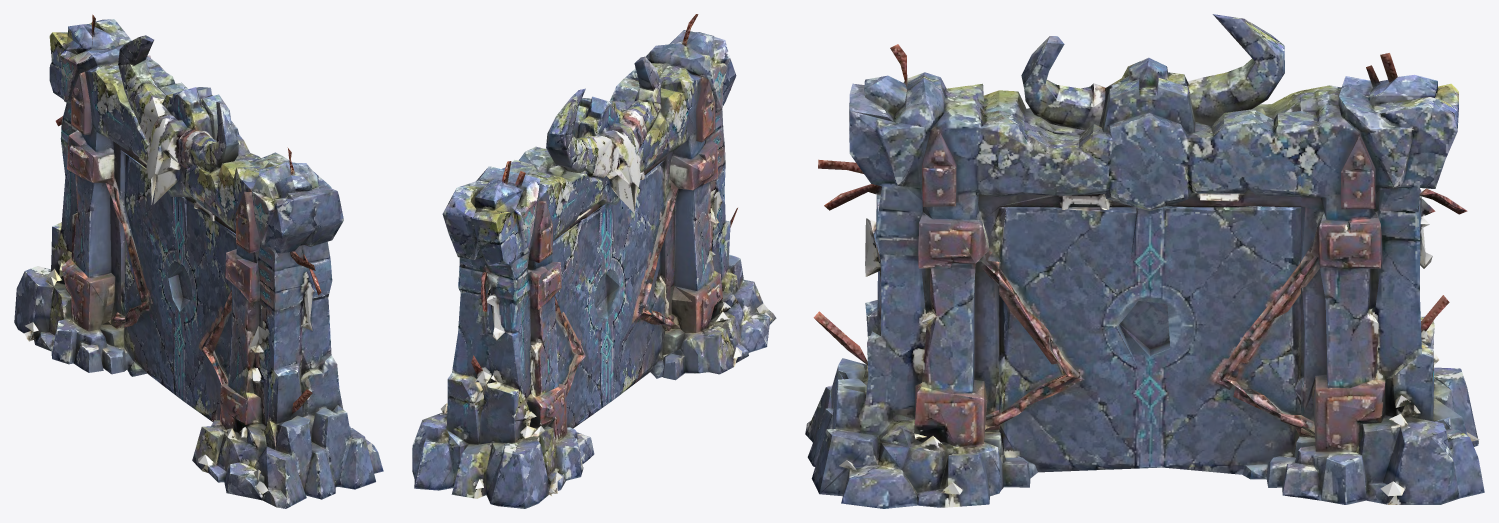
Rendered from boss_door_night_rocks.glb.
3 renders of one model, left to right at view 1: azimuth 30°, elevation 25°; view 2: azimuth 150°, elevation 25°; view 3: azimuth 270°, elevation 25°, orthographic. The views are drawn at different scales.
Visible parts, largest first — view 1: jamb_p, jamb_n, slab, lintel; view 2: jamb_n, jamb_p, slab, lintel; view 3: slab, jamb_p, jamb_n, lintel.
Part boxes in pixels (x1,y1,x2,y2): jamb_p: (192, 147, 383, 508); jamb_n: (14, 14, 165, 367); slab: (112, 150, 236, 421); lintel: (80, 35, 281, 376); jamb_n: (412, 161, 587, 508); jamb_p: (623, 14, 776, 374); slab: (552, 160, 673, 428); lintel: (510, 56, 699, 459); slab: (999, 206, 1300, 479); jamb_p: (805, 44, 999, 508); jamb_n: (1301, 53, 1484, 504); lintel: (999, 14, 1300, 497).
Bounding box in the file's own units: 1.95 × 4.28 × 6.01.
Materials: 1 (1 with a texture image).
